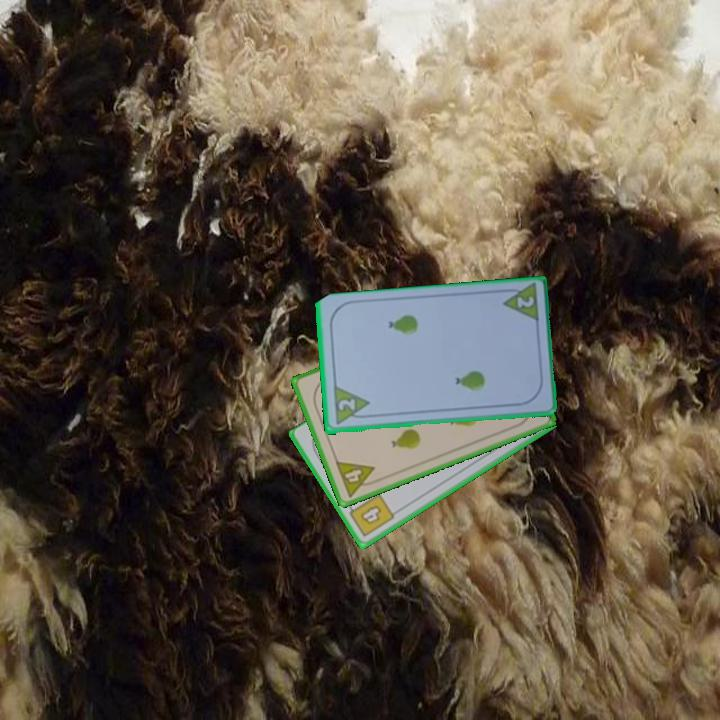2p: (329, 384, 373, 428), (513, 293, 537, 311)
4b: (344, 490, 397, 540)
4p: (332, 457, 382, 500)
